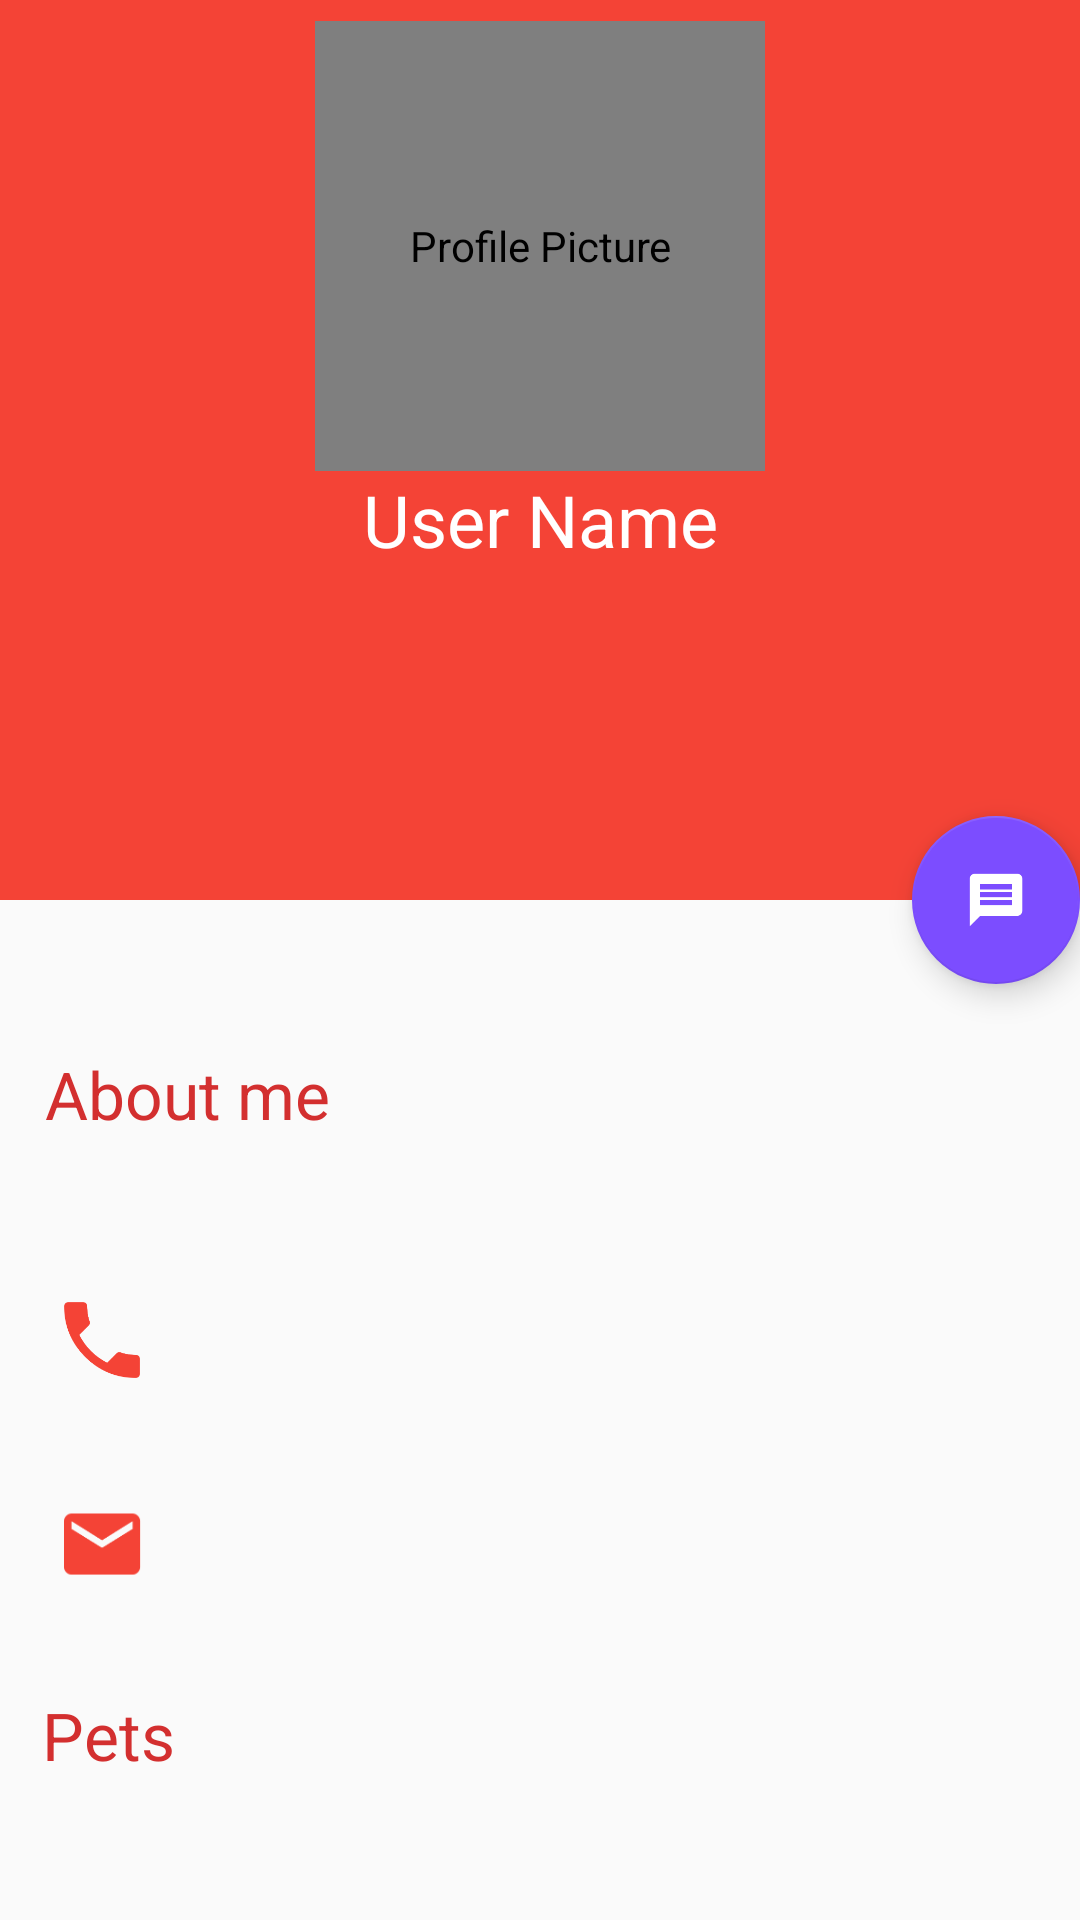

Screen size 1080 × 1920. Icon name, then its center in pixels as [x,y]:
email: [102,1544]
message: [996,900]
phone: [102,1340]
